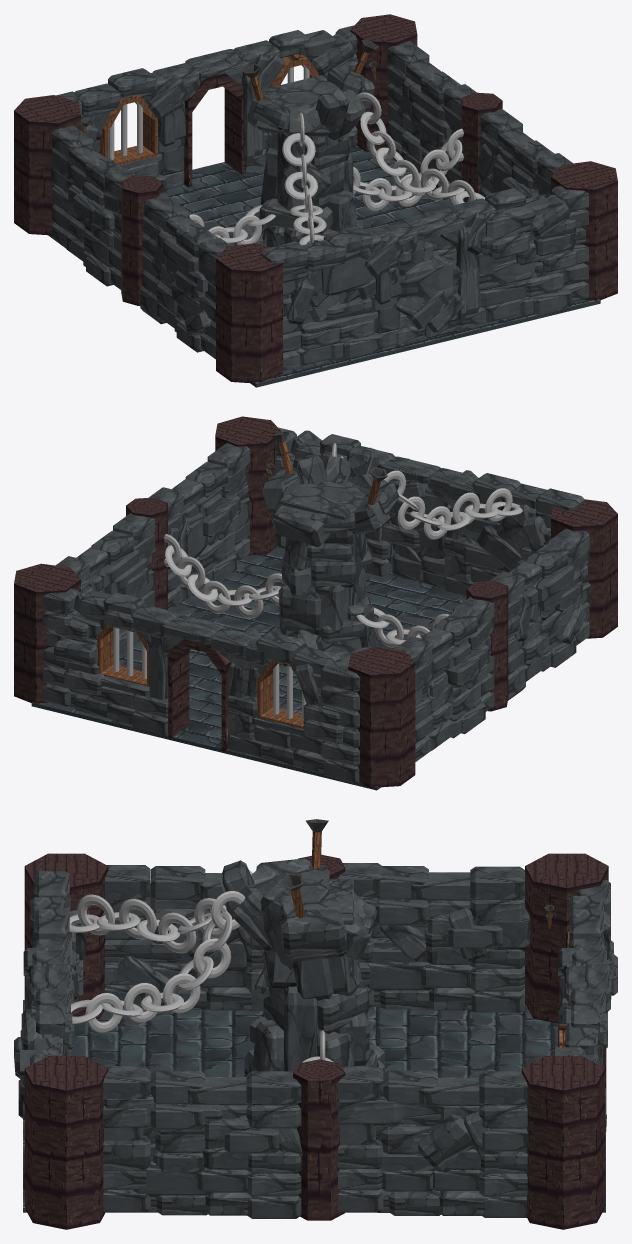
The model's file is room_boss.fbx.
3 views of the same model, one above another, from view 1: azimuth 30°, elevation 25°; view 2: azimuth 150°, elevation 25°; view 3: azimuth 270°, elevation 25° (orthographic). The views are drawn at different scales.
Parts seen in each view (by area): view 1: pasted__pasted__pCylinder8; view 2: pasted__pasted__pCylinder8; view 3: pasted__pasted__pCylinder8.
Boxes of the visible parts, left/top/right/bottom form: pasted__pasted__pCylinder8: left=14, top=14, right=617, bottom=387; pasted__pasted__pCylinder8: left=14, top=416, right=617, bottom=790; pasted__pasted__pCylinder8: left=14, top=819, right=617, bottom=1229.
Size of the model in its own units: 0.2097 by 0.1098 by 0.2253.
Materials: 10 (8 with a texture image).
